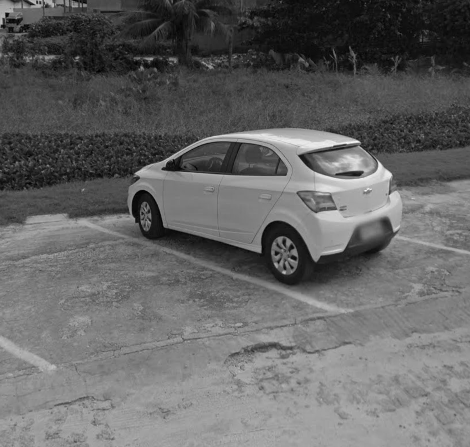car: (125, 126, 405, 287)
